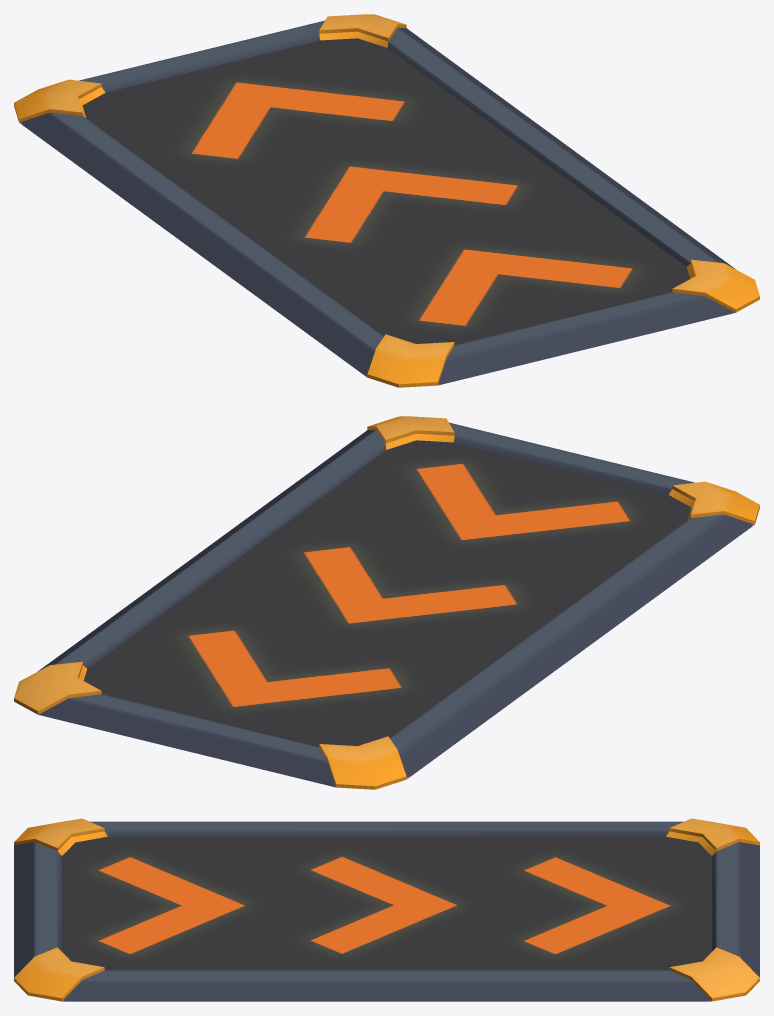
File: accelerating_pad.fbx
The picture shows the model from 3 angles, top to bottom: view 1: azimuth 30°, elevation 25°; view 2: azimuth 150°, elevation 25°; view 3: azimuth 270°, elevation 25°; orthographic projection. The views are drawn at different scales.
Parts seen in each view (by area): view 1: Plane; view 2: Plane; view 3: Plane.
Part boxes in pixels (x1=…): Plane: x1=14, y1=14, x2=759, y2=387; Plane: x1=14, y1=416, x2=759, y2=789; Plane: x1=14, y1=818, x2=759, y2=1001.
Bounding box in the file's own units: 420 × 17.35 × 750.
